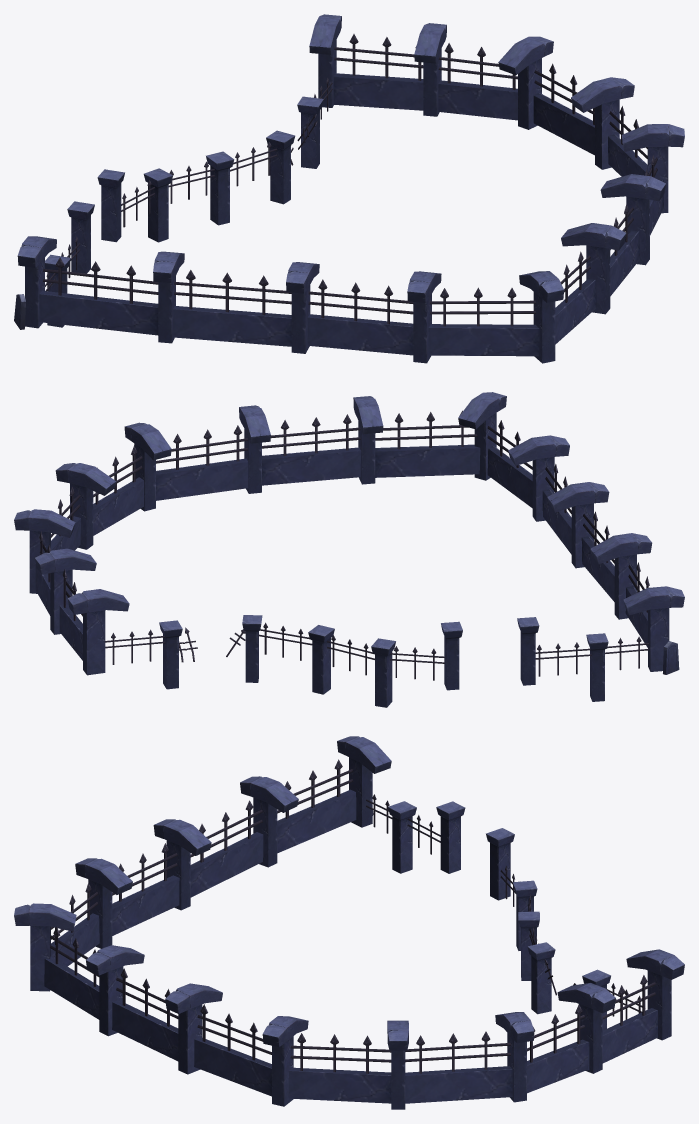
The model's file is Area11_12.fbx.
The picture shows the model from 3 angles, top to bottom: view 1: azimuth 30°, elevation 25°; view 2: azimuth 150°, elevation 25°; view 3: azimuth 270°, elevation 25°; orthographic projection. The views are drawn at different scales.
Visible parts, largest first — view 1: Area11_12; view 2: Area11_12; view 3: Area11_12.
Part boxes in pixels (x1,y1,x2,y2): Area11_12: (14,14,684,363); Area11_12: (14,392,684,707); Area11_12: (14,736,684,1109).
Size of the model in its own units: 8467 by 1375 by 7876.
